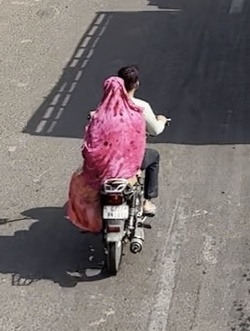BikeWithRider: (58, 59, 175, 279)
NoHelmet: (95, 72, 130, 112), (112, 60, 146, 100)
